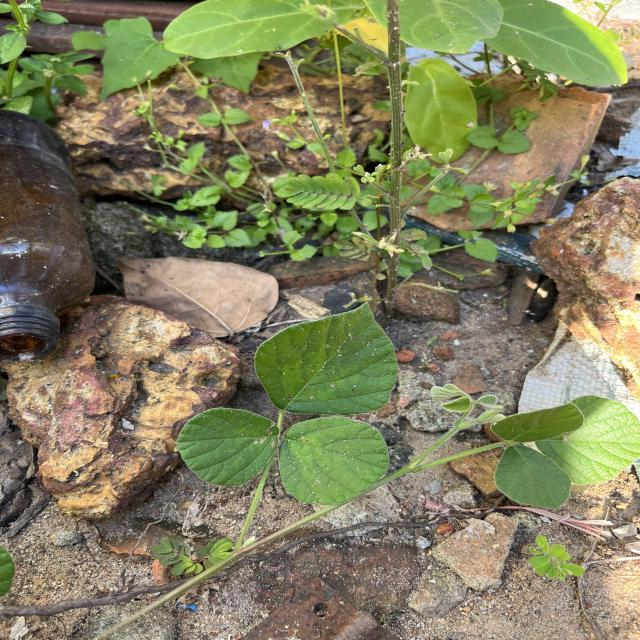Pseudarthria viscida: (172, 298, 403, 508)
